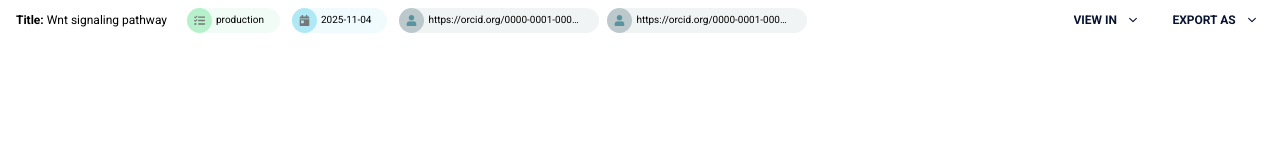
Test: ModelBar › lists the viewers in VIEW IN, without the Standard Annotations Editor
Click the button "VIEW IN" at (1104, 20), box x1=1058 y1=5 x2=1149 y2=35
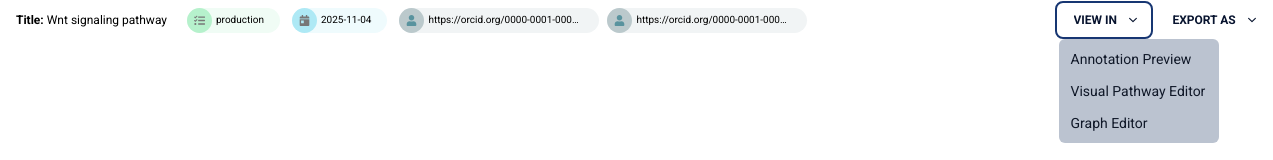
expect the links read "Annotation Preview", "Visual Pathway Editor", "Graph Editor", in this order: met, box x1=1070 y1=51 x2=1191 y2=67; x1=1070 y1=83 x2=1205 y2=99; x1=1070 y1=115 x2=1148 y2=131
